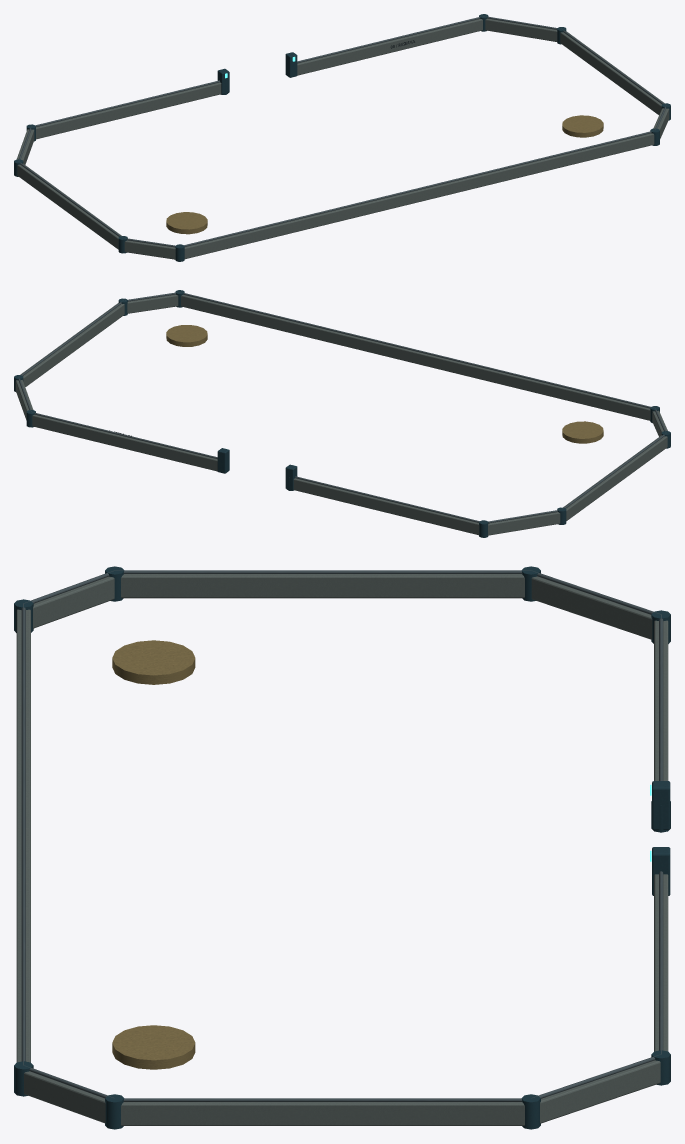
Rendered from Recinto.gltf.
3 views of the same model, one above another, from view 1: azimuth 30°, elevation 25°; view 2: azimuth 150°, elevation 25°; view 3: azimuth 270°, elevation 25° (orthographic). The views are drawn at different scales.
Visible parts, largest first — view 1: Recinto_Hormigon, Recinto_Metal_gris, Recinto_Arena_orilla, Recinto_Panel_azul; view 2: Recinto_Hormigon, Recinto_Metal_gris, Recinto_Arena_orilla, Recinto_Panel_azul; view 3: Recinto_Hormigon, Recinto_Metal_gris, Recinto_Arena_orilla, Recinto_Panel_azul.
Boxes of the visible parts, bbox=[...] form: Recinto_Hormigon: bbox=[16, 18, 669, 259]; Recinto_Metal_gris: bbox=[18, 16, 666, 247]; Recinto_Arena_orilla: bbox=[166, 115, 603, 234]; Recinto_Panel_azul: bbox=[14, 14, 670, 261]; Recinto_Hormigon: bbox=[15, 294, 667, 535]; Recinto_Metal_gris: bbox=[18, 292, 666, 523]; Recinto_Arena_orilla: bbox=[166, 325, 603, 443]; Recinto_Panel_azul: bbox=[14, 290, 670, 537]; Recinto_Hormigon: bbox=[16, 574, 668, 1125]; Recinto_Metal_gris: bbox=[21, 570, 663, 1101]; Recinto_Arena_orilla: bbox=[112, 640, 195, 1069]; Recinto_Panel_azul: bbox=[14, 566, 670, 1129].
Size of the model in its own units: 97.5 by 3.75 by 50.5.
Materials: 6 (6 with a texture image).
